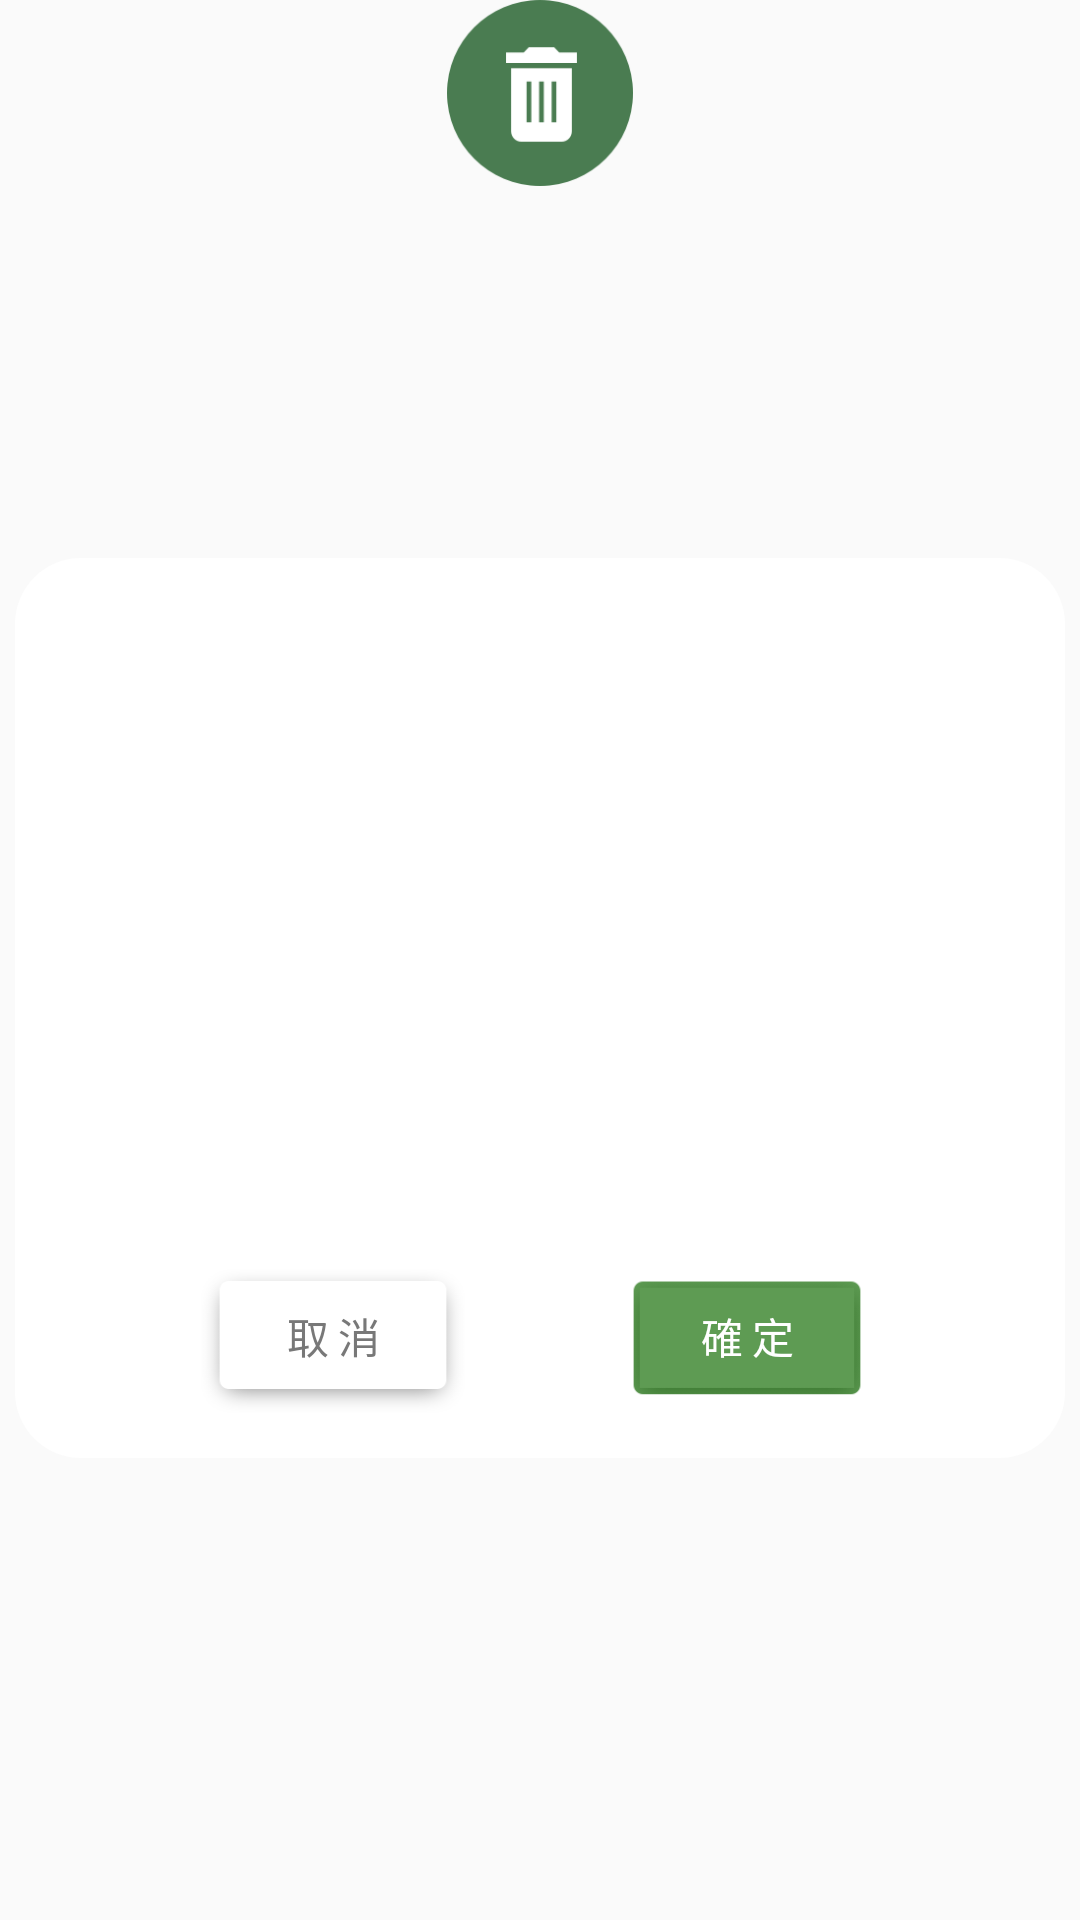

Where icons sit on this 1080x1920 app screen, as region(x1, y1, x2, y2):
bin: region(447, 0, 633, 186)
